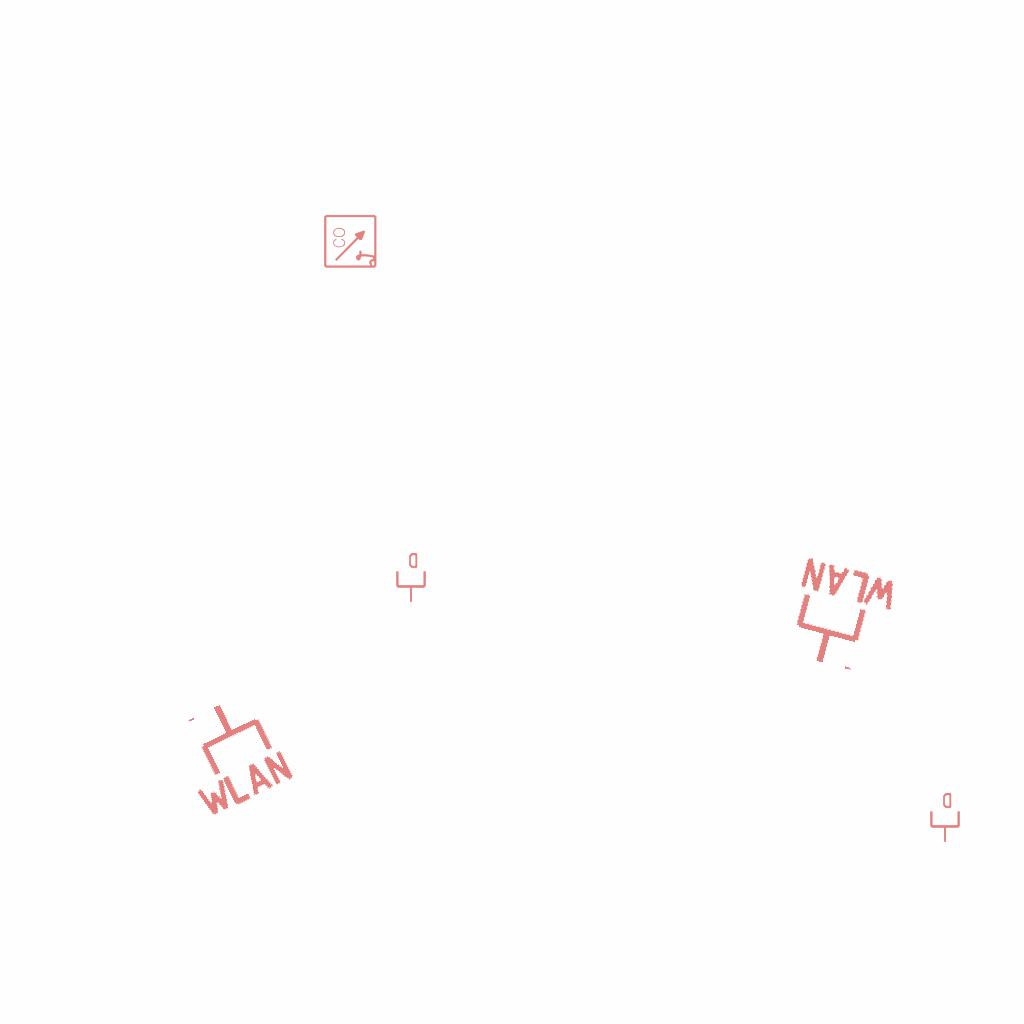Datenanschluss_einfach: (928, 793, 962, 843), (394, 553, 428, 603)
ROA_Rauchmelder_optisch_mit_Signalgeber_(Sockelsirene): (323, 213, 379, 269)
WLAN: (159, 683, 300, 823), (776, 553, 905, 683)
